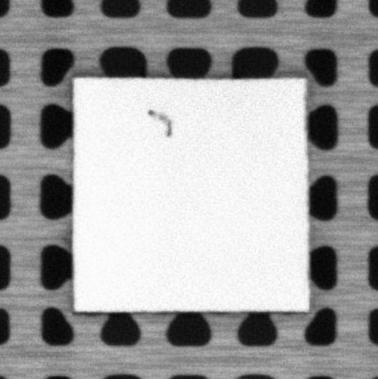DIE_INK: (147, 107, 176, 139)
